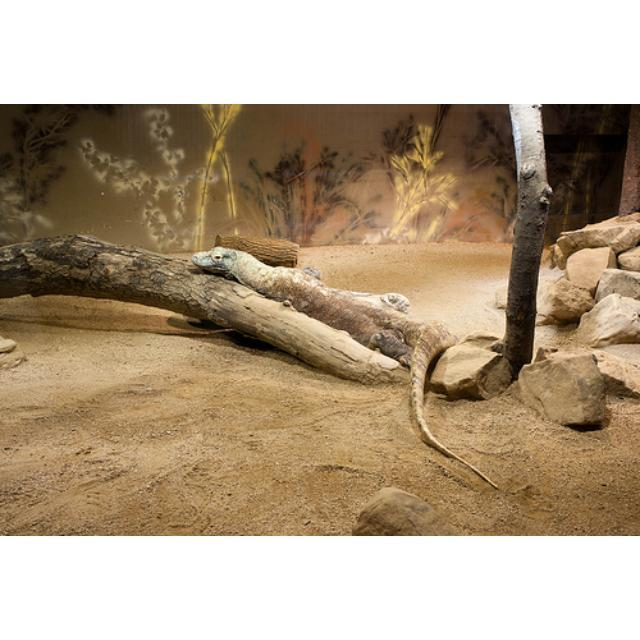KomodoDragon: (190, 245, 498, 489)
